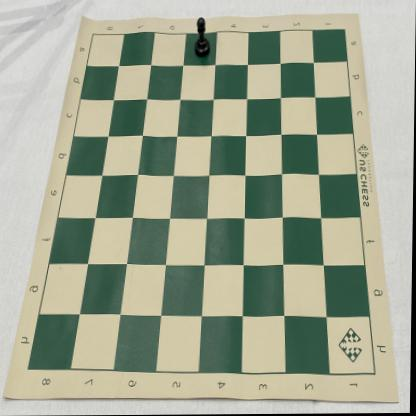black-pawn: (193, 17, 211, 59)
